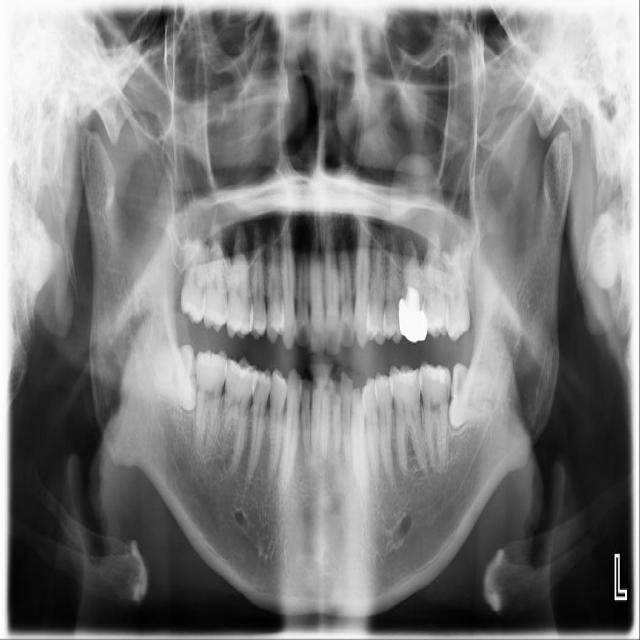Crown: (399, 289, 429, 345)
Filling: (226, 359, 257, 381), (389, 367, 419, 389), (421, 366, 448, 385)
impacted tooth: (141, 343, 196, 412), (451, 362, 507, 429)
